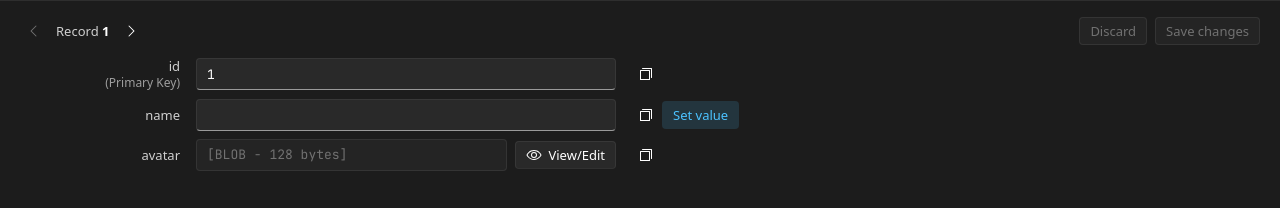
Scenario: TableDataFormView › null values remain editable in form view
The width and height of the screenshot is (1280, 208).
Type "Filled in" into the field with test id "form-input-name".
click(406, 115); type("Filled in")  # box [196, 99, 616, 131]
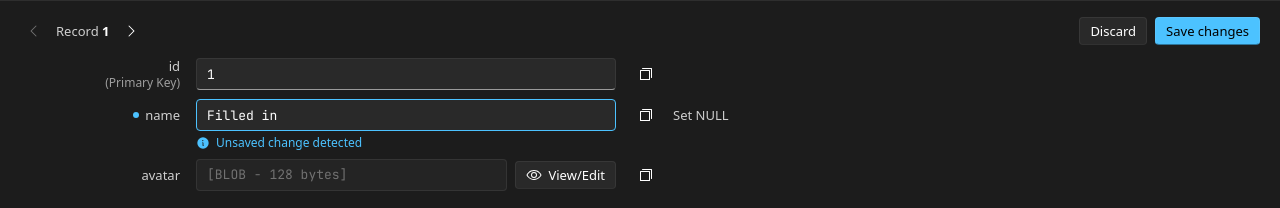
Expected: the button with test id "btn-form-save" is enabled, [1155, 17, 1260, 45]
